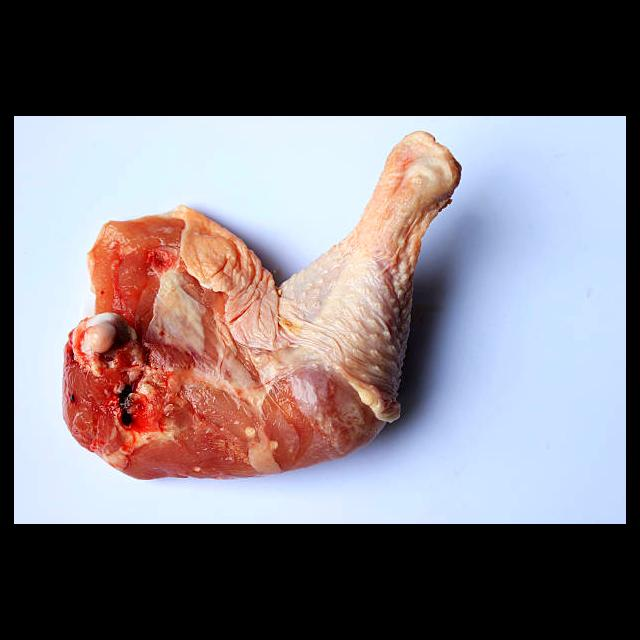chicken: (60, 132, 461, 487)
